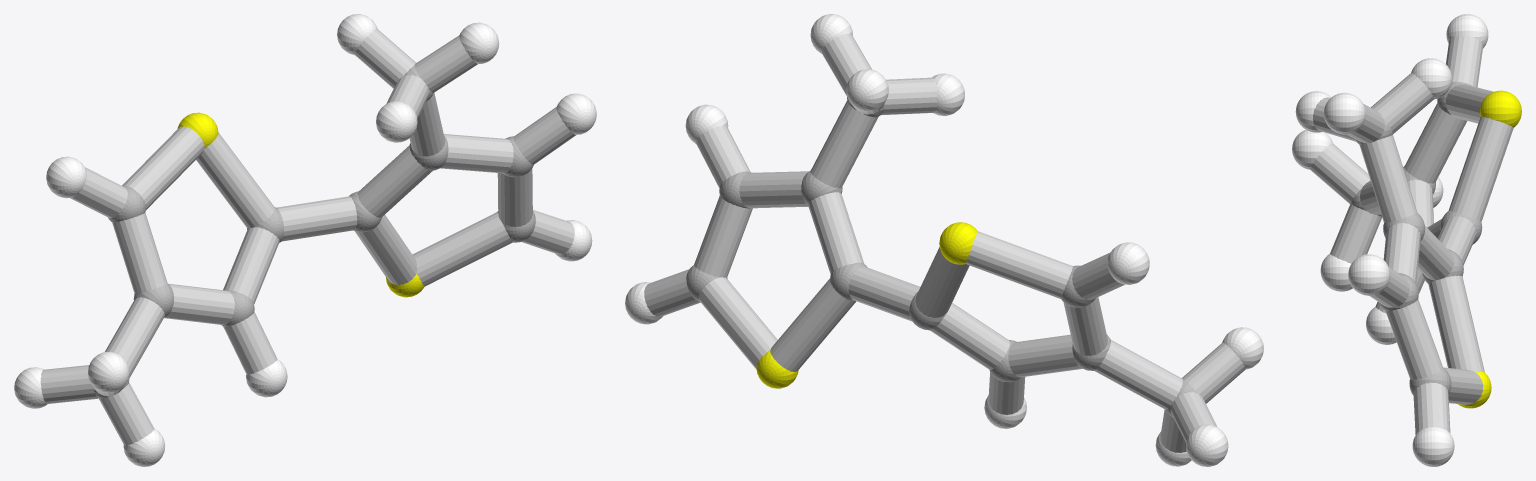
File: Methylthiophene_Phi_20_Theta_50_Methylthiophene.glb
The picture shows the model from 3 angles, left to right: view 1: azimuth 30°, elevation 25°; view 2: azimuth 150°, elevation 25°; view 3: azimuth 270°, elevation 25°; orthographic projection. The views are drawn at different scales.
Parts seen in each view (by area): view 1: grp7965, grp3621, grp1, grp7241; view 2: grp7965, grp3621, grp1, grp7241; view 3: grp7965, grp3621, grp1, grp7241.
Part boxes in pixels (x1,y1,x2,y2): grp7965: (40,29,575,445); grp3621: (14,14,596,466); grp1: (94,65,535,398); grp7241: (177,112,424,297); grp7965: (644,34,1245,452); grp3621: (625,14,1263,466); grp1: (686,97,1197,417); grp7241: (756,222,977,388); grp7965: (1310,35,1513,434); grp3621: (1292,14,1488,466); grp1: (1350,81,1482,395); grp7241: (1458,90,1521,408).
Bounding box in the file's own units: 9.61 × 5.68 × 3.28.
